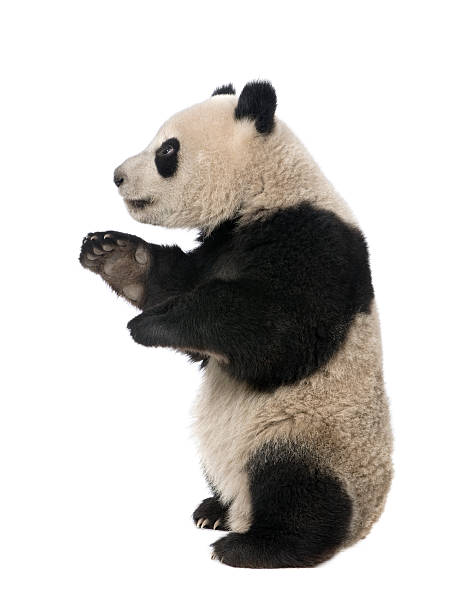panda: (102, 69, 344, 278)
